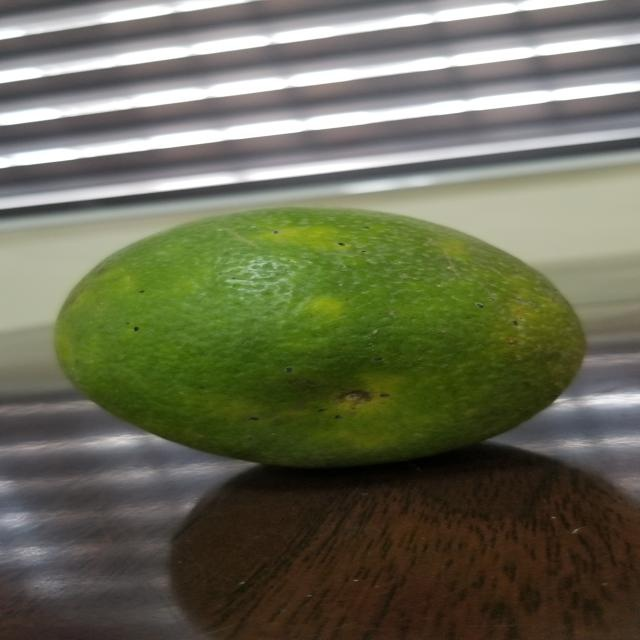agrume: (36, 202, 640, 466)
